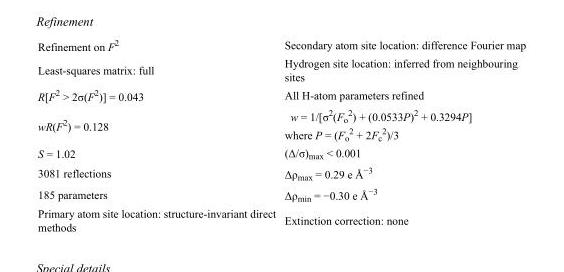table: (37, 37, 525, 232)
table column: (279, 37, 525, 232), (37, 37, 279, 232)
table row: (37, 104, 525, 144), (37, 54, 525, 84), (37, 204, 525, 232), (37, 162, 525, 183), (37, 183, 525, 204), (37, 84, 525, 104), (37, 144, 525, 162), (37, 37, 525, 54)
